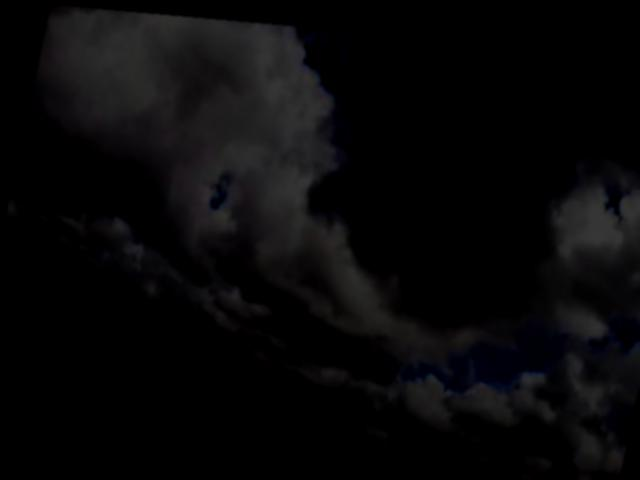iha: (462, 162, 491, 192)
